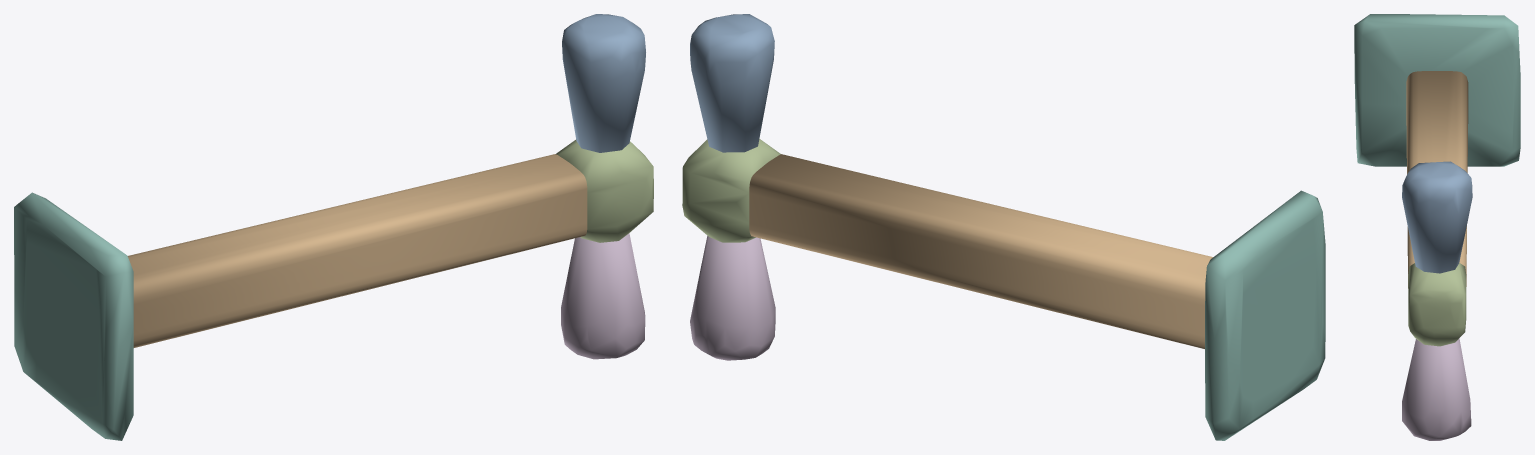
The picture shows the model from 3 angles, left to right: view 1: azimuth 30°, elevation 25°; view 2: azimuth 150°, elevation 25°; view 3: azimuth 270°, elevation 25°; orthographic projection. The views are drawn at different scales.
Size of the model in its own units: 1.82 by 0.9647 by 0.5579.
